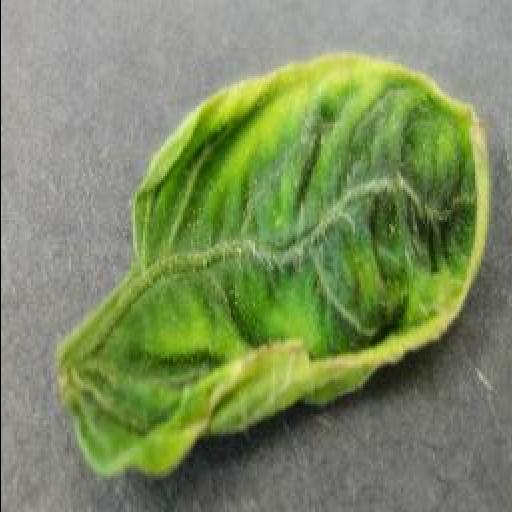disease_tomato: (56, 48, 492, 482)
